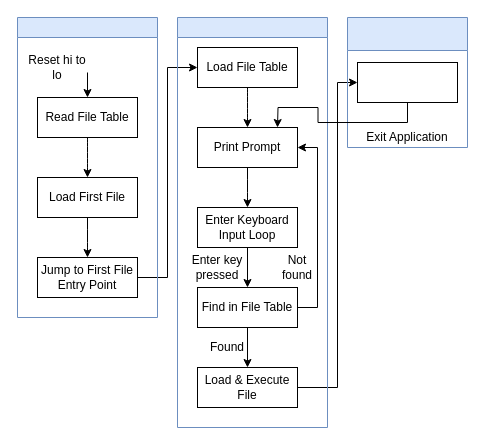
This 485x445 diagram has some shape labels left out. The box of each missing label's shape, as (x1, y1, x2, y2) in pixels:
Firmware: (16, 16, 158, 318)
Kernel: (176, 16, 328, 428)
Run Application: (356, 62, 458, 102)
User-Level Application: (346, 16, 468, 148)
